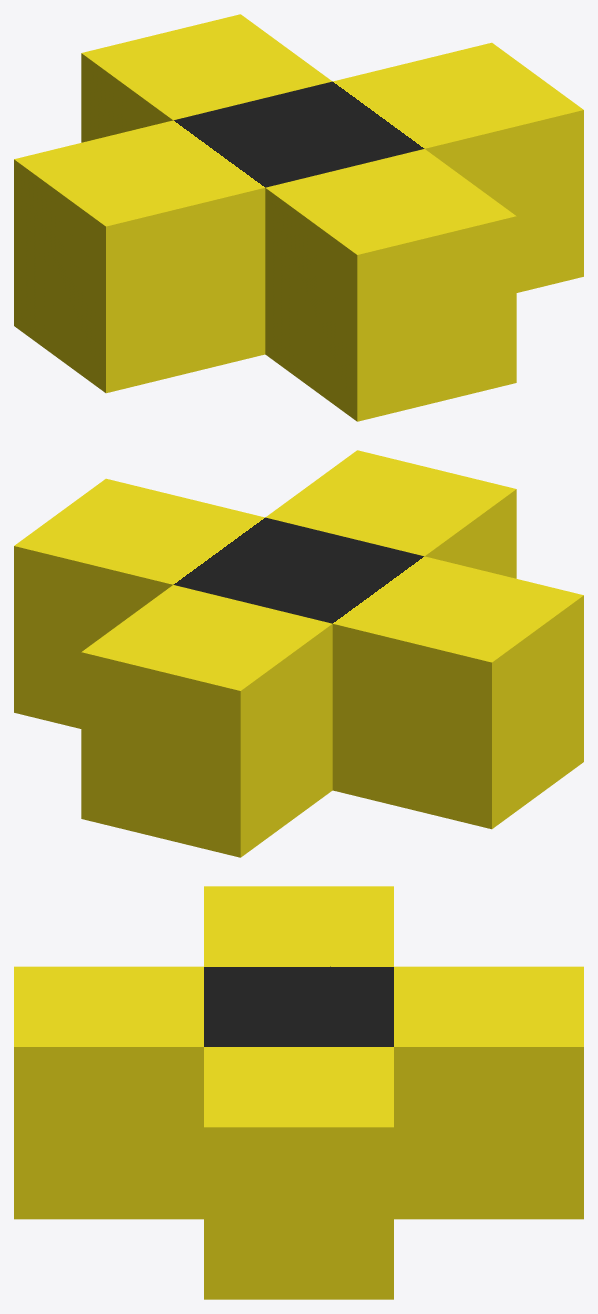
Rendered from flower7.obj.
3 views of the same model, one above another, from view 1: azimuth 30°, elevation 25°; view 2: azimuth 150°, elevation 25°; view 3: azimuth 270°, elevation 25° (orthographic). The views are drawn at different scales.
Parts seen in each view (by area): view 1: PlumpStandardMushroom_16; view 2: PlumpStandardMushroom_16; view 3: PlumpStandardMushroom_16.
Part boxes in pixels (x1=…): PlumpStandardMushroom_16: x1=14, y1=14, x2=583, y2=421; PlumpStandardMushroom_16: x1=14, y1=450, x2=583, y2=857; PlumpStandardMushroom_16: x1=14, y1=886, x2=583, y2=1299.
Bounding box in the file's own units: 3 × 1 × 3.
Materials: 1 (1 with a texture image).
